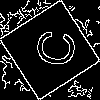C: (25, 25, 78, 70)
